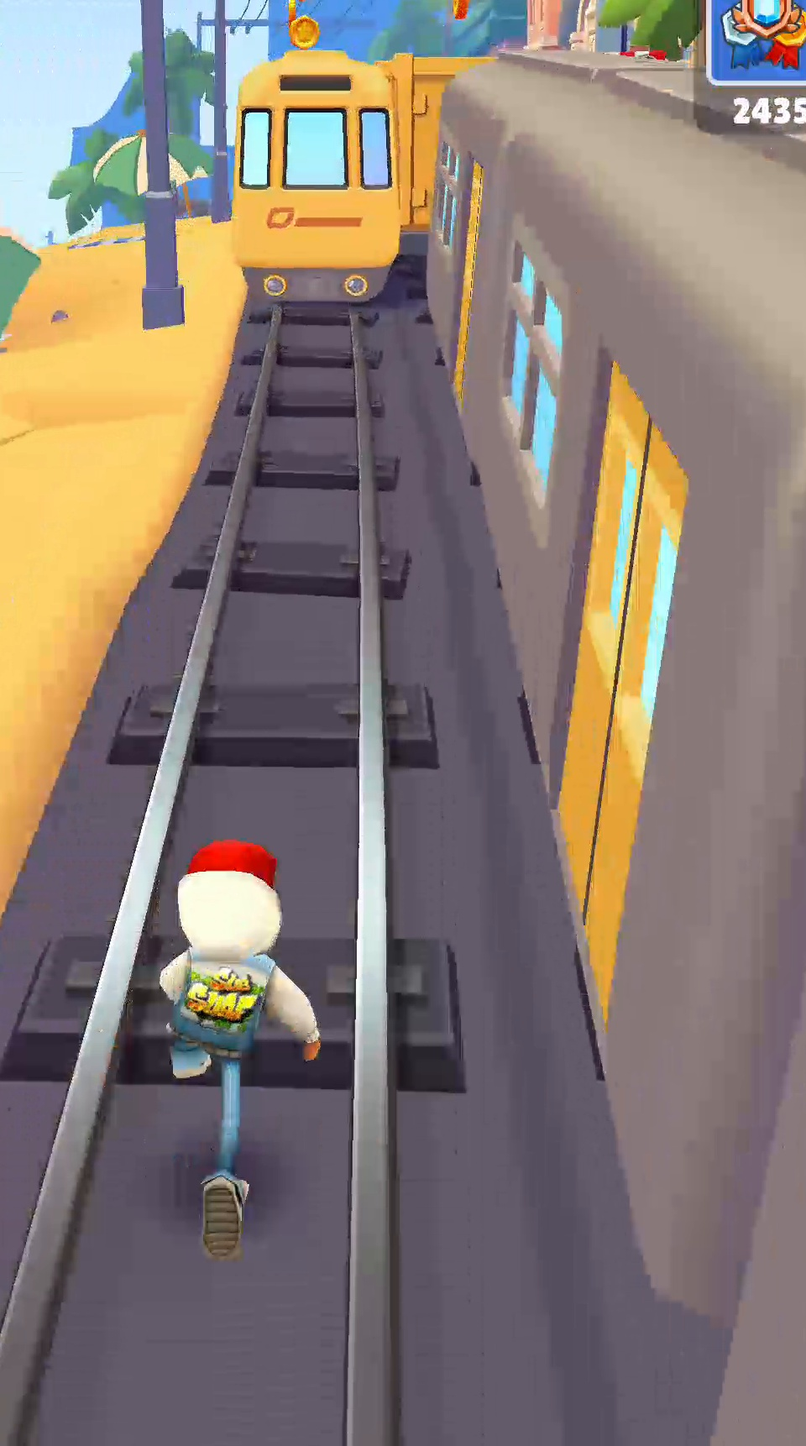train: (427, 48, 805, 1445), (232, 51, 412, 301), (375, 55, 485, 233)
